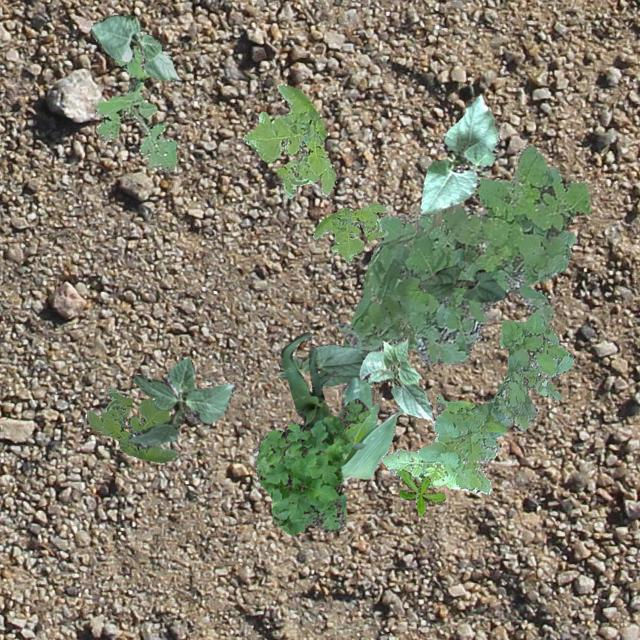crop: (252, 322, 404, 482), (280, 332, 364, 448), (127, 356, 235, 446), (418, 94, 498, 215), (358, 336, 434, 422), (90, 12, 178, 80), (276, 344, 368, 386), (418, 264, 507, 302)
weed: (342, 144, 590, 364), (380, 312, 572, 492), (254, 398, 370, 534), (242, 82, 334, 198), (94, 44, 178, 170), (86, 388, 178, 462), (312, 202, 386, 262), (396, 470, 444, 514)
